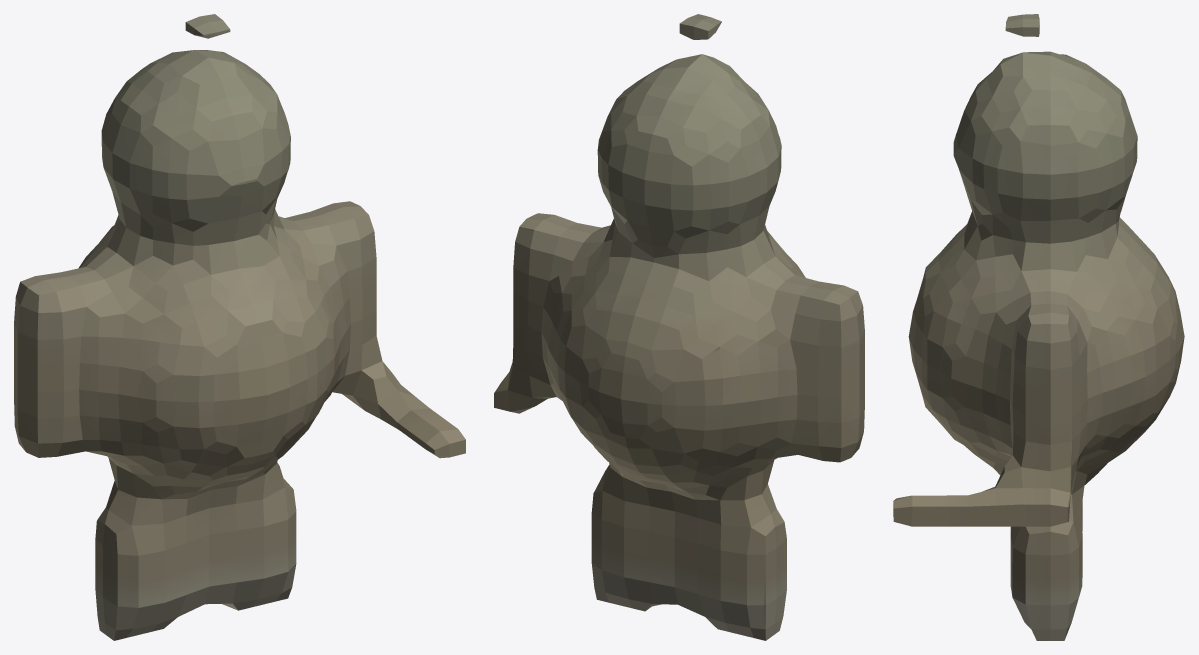
The model's file is stoneDokkaebi.glb.
3 renders of one model, left to right at view 1: azimuth 30°, elevation 25°; view 2: azimuth 150°, elevation 25°; view 3: azimuth 270°, elevation 25°, orthographic. The views are drawn at different scales.
Visible parts, largest first — view 1: geometry_0; view 2: geometry_0; view 3: geometry_0.
Part boxes in pixels (bbox=[...]): geometry_0: bbox=[14, 14, 465, 640]; geometry_0: bbox=[494, 14, 864, 640]; geometry_0: bbox=[893, 14, 1184, 640].
Bounding box in the file's own units: 0.6186 × 0.9654 × 0.4383.
Materials: 1 (1 with a texture image).
